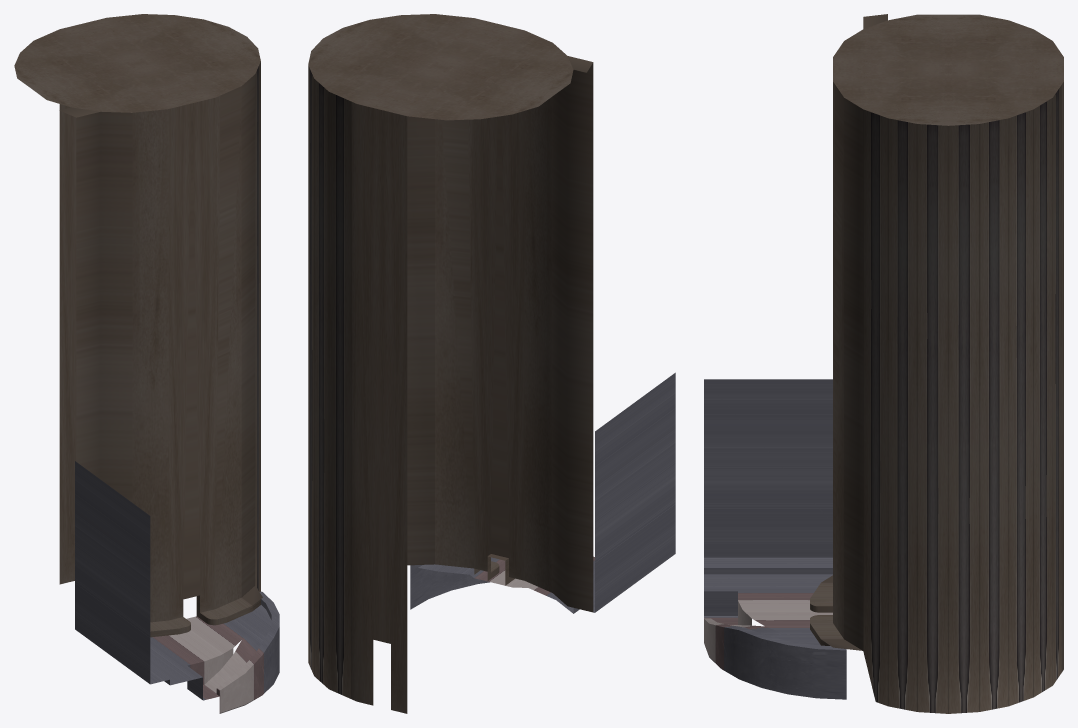
File: Cor1_bldg_garden.fbx
3 views of the same model, side by side, from view 1: azimuth 30°, elevation 25°; view 2: azimuth 150°, elevation 25°; view 3: azimuth 270°, elevation 25° (orthographic). The views are drawn at different scales.
Parts seen in each view (by area): view 1: Cor1_bldg_War_Room12, cylinder1; view 2: Cor1_bldg_War_Room12, cylinder1; view 3: Cor1_bldg_War_Room12, cylinder1.
Boxes of the visible parts, box(x1,y1,x2,y2) form: Cor1_bldg_War_Room12: box(14, 14, 262, 637); cylinder1: box(75, 461, 279, 713); Cor1_bldg_War_Room12: box(308, 14, 593, 713); cylinder1: box(410, 372, 675, 613); Cor1_bldg_War_Room12: box(810, 14, 1063, 713); cylinder1: box(704, 379, 846, 699).
Size of the model in its own units: 3898 by 9600 by 5301.
